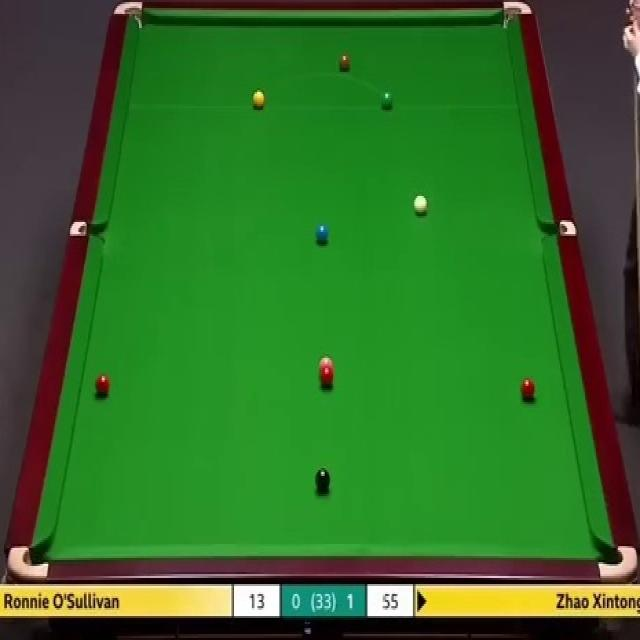pocket: (596, 538, 636, 578), (6, 546, 48, 583), (109, 0, 145, 29), (500, 1, 532, 28), (542, 218, 577, 240), (69, 218, 106, 237)
